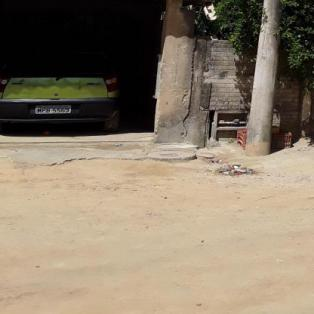Poste: (236, 0, 314, 159)
